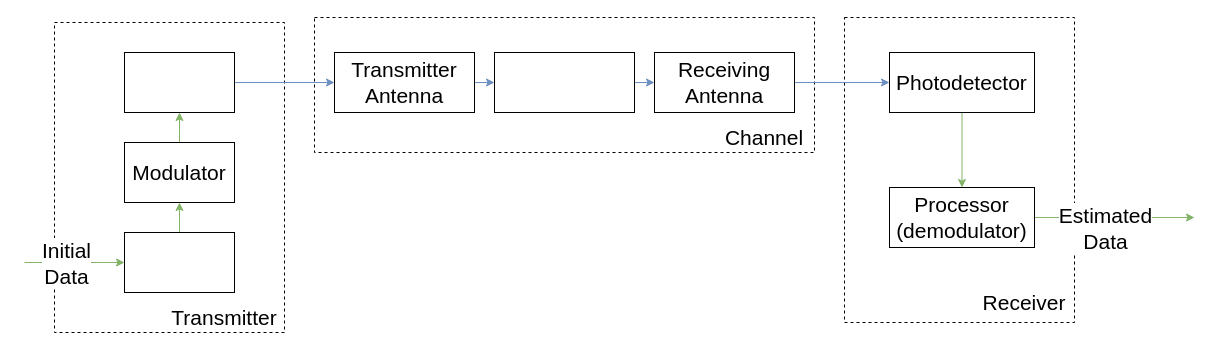
Some shapes in this 1220 by 350 pixel diagram are drawn without their labels. The box of each missing label's shape, as (x1, y1, x2, y2) in pixels:
Atmospheric Turbulence: (494, 52, 634, 112)
Emitter (Laser): (124, 52, 234, 112)
Encoder: (124, 232, 234, 292)
